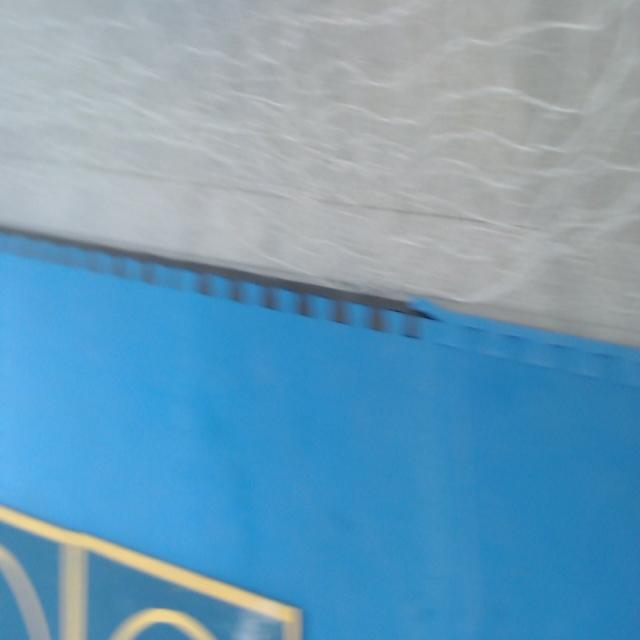base_pouso: (74, 529, 305, 639), (0, 506, 79, 639)
